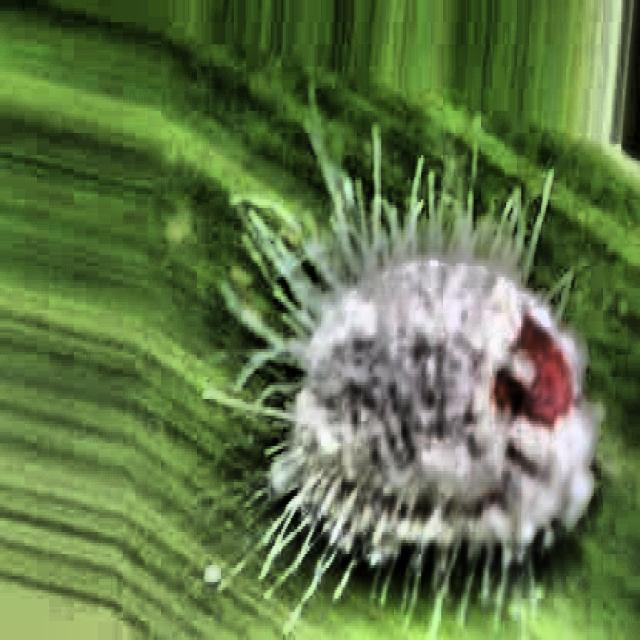Mealy-bug: (201, 110, 637, 640)
